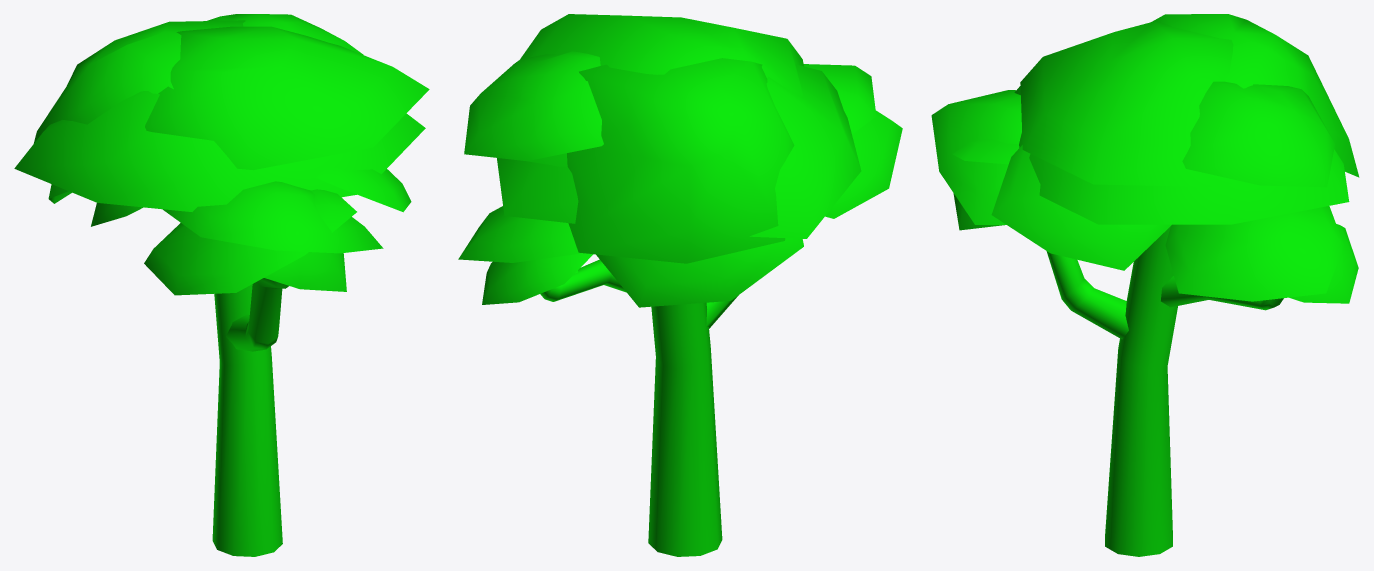
Rendered from TreeV1.fbx.
3 renders of one model, left to right at view 1: azimuth 30°, elevation 25°; view 2: azimuth 150°, elevation 25°; view 3: azimuth 270°, elevation 25°, orthographic. The views are drawn at different scales.
Parts seen in each view (by area): view 1: polySurface31; view 2: polySurface31; view 3: polySurface31.
Part boxes in pixels (bbox=[...]): polySurface31: bbox=[14, 14, 429, 556]; polySurface31: bbox=[458, 14, 902, 556]; polySurface31: bbox=[931, 14, 1359, 556].
Bounding box in the file's own units: 621 × 877 × 681.
